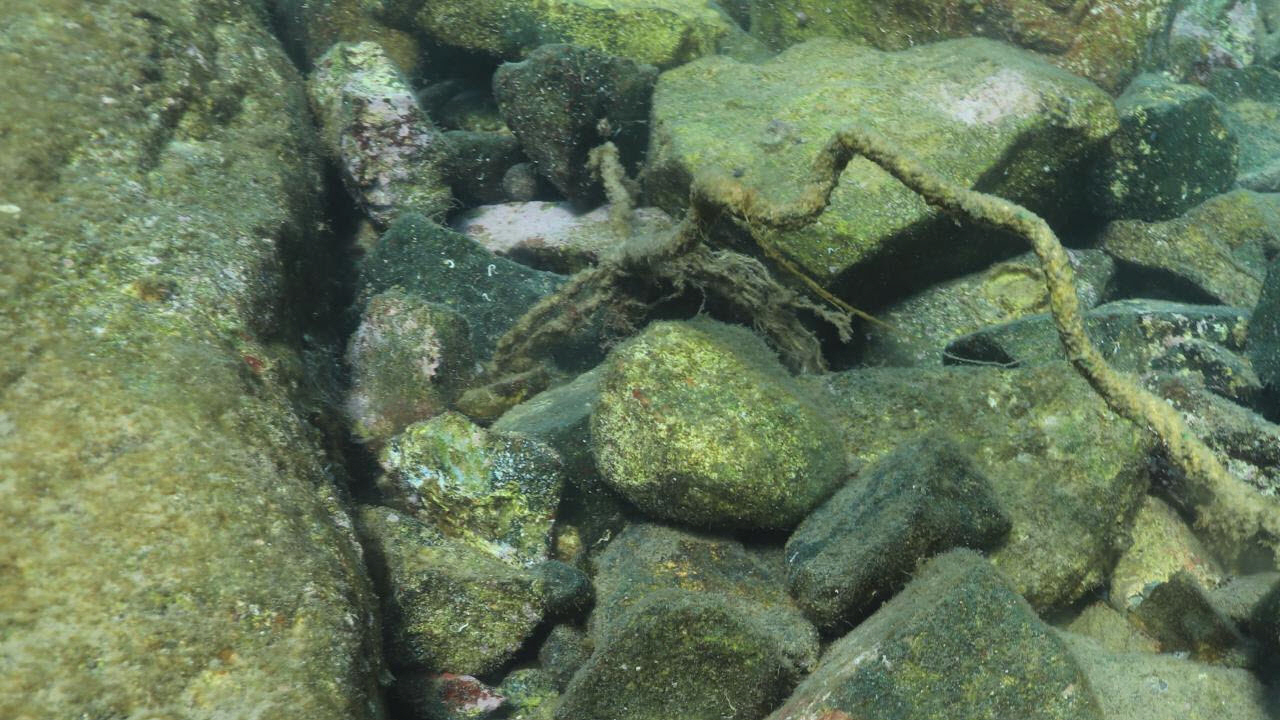rope: (482, 123, 1280, 556)
